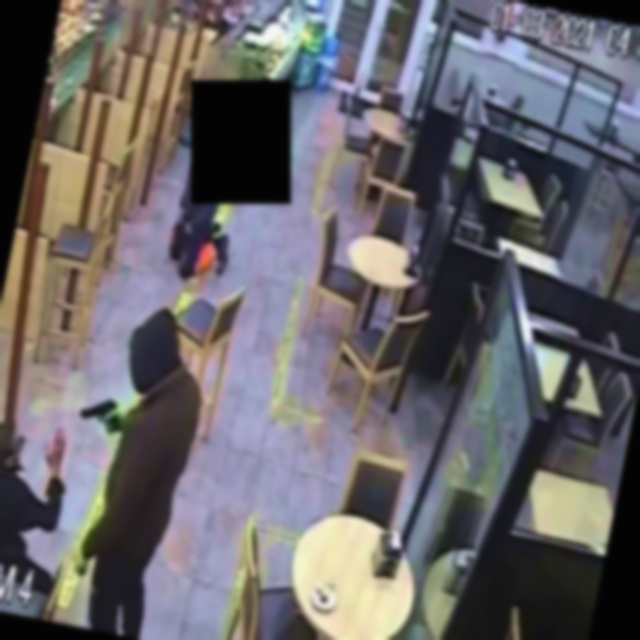gun: (70, 377, 128, 446)
